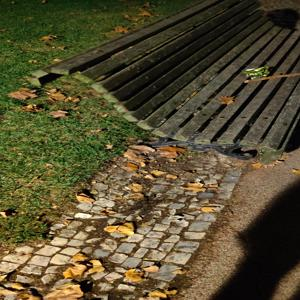plastic: (243, 62, 274, 80)
